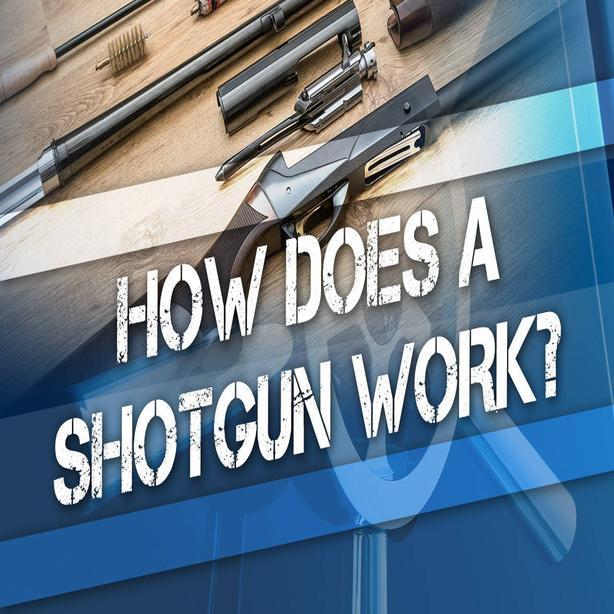Firearm: (74, 8, 543, 308)
